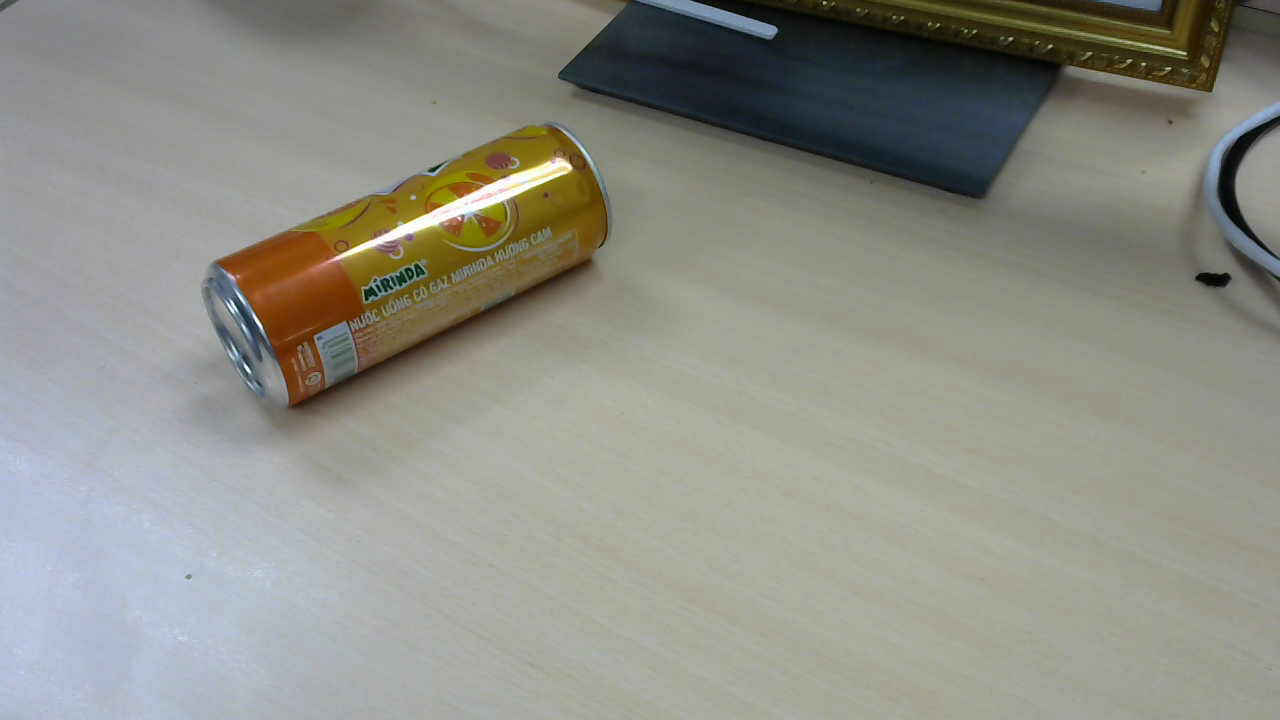Mirinda: (209, 126, 616, 417)
